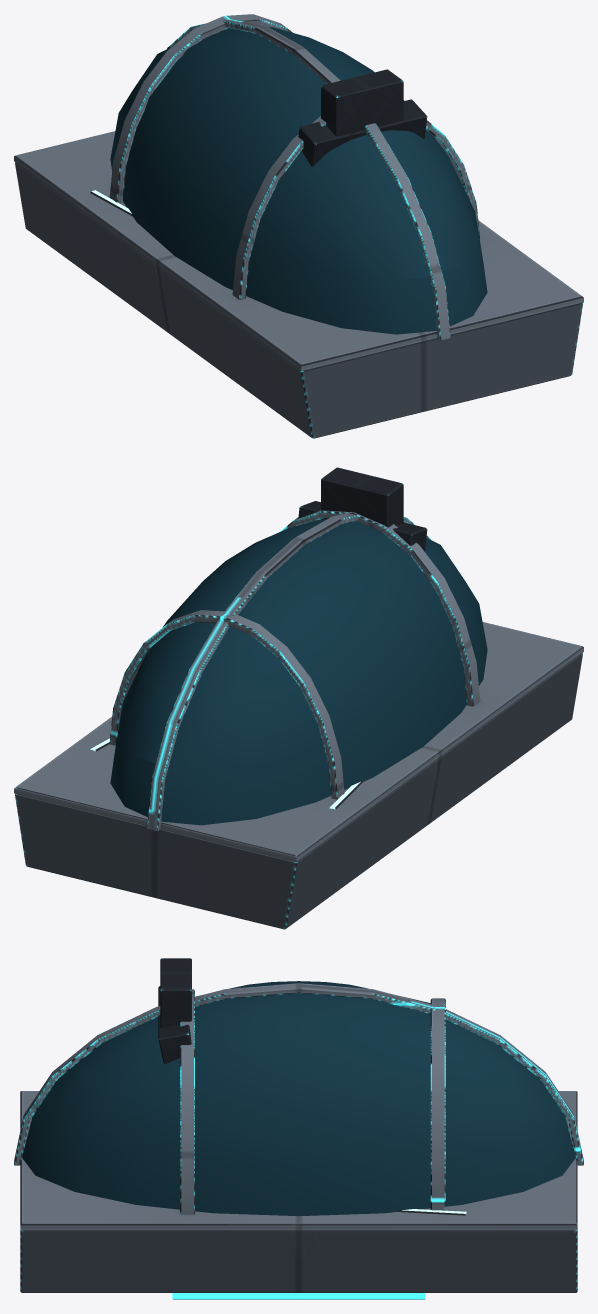
File: cabina_caza_t3.fbx
3 views of the same model, one above another, from view 1: azimuth 30°, elevation 25°; view 2: azimuth 150°, elevation 25°; view 3: azimuth 270°, elevation 25° (orthographic). The views are drawn at different scales.
Visible parts, largest first — view 1: cabina_caza_t3, cabina_caza_t3_cristal; view 2: cabina_caza_t3, cabina_caza_t3_cristal; view 3: cabina_caza_t3_cristal, cabina_caza_t3.
Part boxes in pixels (x1,y1,x2,y2): cabina_caza_t3: (14,14,583,438); cabina_caza_t3_cristal: (110,27,487,334); cabina_caza_t3: (14,467,583,929); cabina_caza_t3_cristal: (110,519,487,825); cabina_caza_t3_cristal: (22,981,575,1216); cabina_caza_t3: (14,958,583,1299).
Bounding box in the file's own units: 2.5 × 2.44 × 4.5.
